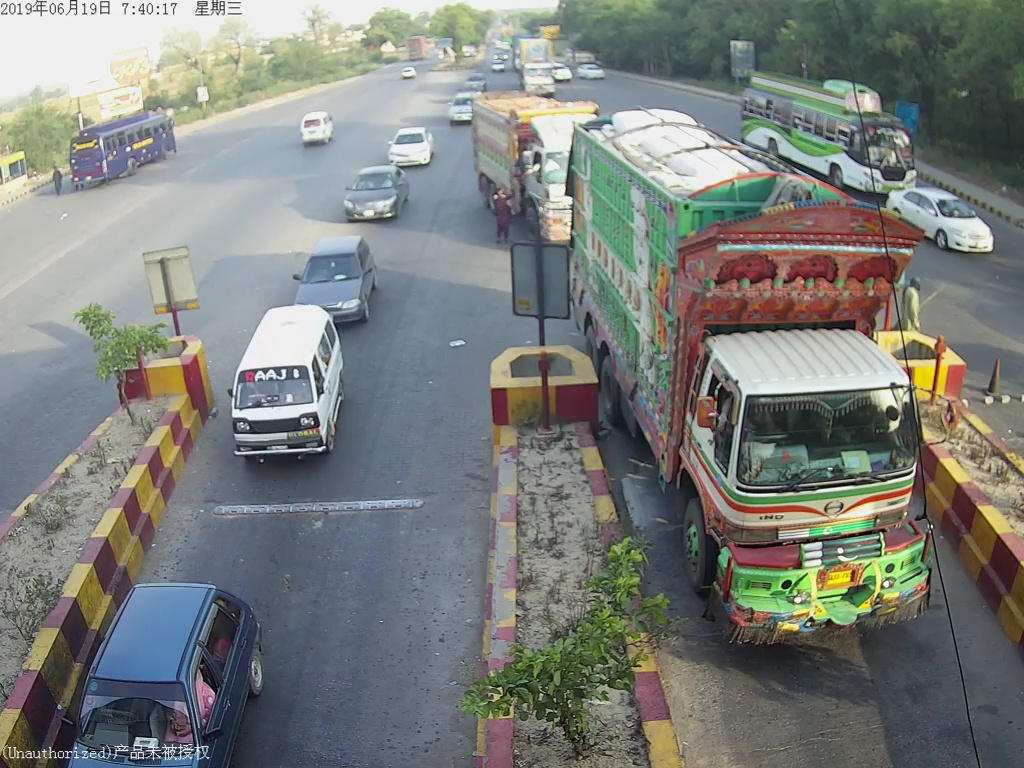Cat-1: (219, 308, 353, 479), (300, 245, 375, 305), (343, 164, 409, 223), (384, 122, 433, 162)
Cat-4: (572, 119, 946, 652)
